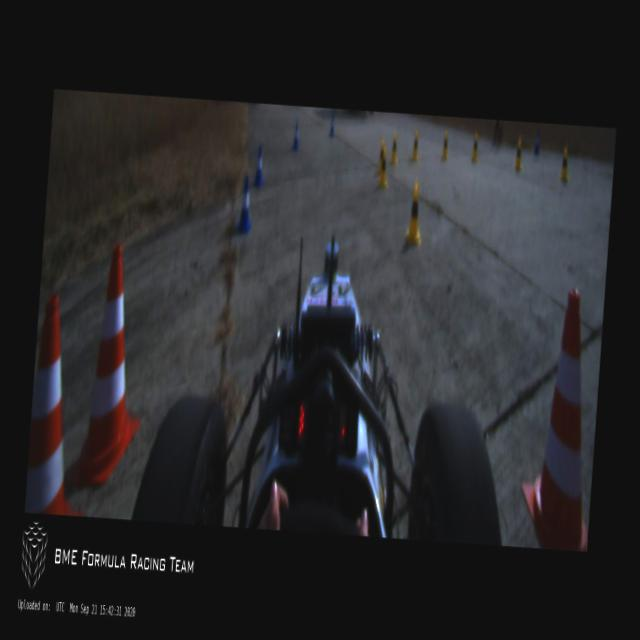blue_cone: (233, 174, 254, 237), (252, 143, 266, 190), (292, 121, 300, 152), (534, 130, 540, 154), (328, 116, 334, 138)
large_orange_cone: (517, 288, 604, 550), (63, 240, 151, 490), (24, 291, 96, 515)
yellow_cone: (404, 182, 424, 246), (376, 148, 390, 190), (558, 148, 570, 184), (512, 138, 524, 172), (410, 129, 420, 163), (388, 131, 398, 164), (470, 132, 480, 163), (440, 130, 449, 162), (376, 140, 384, 174)
